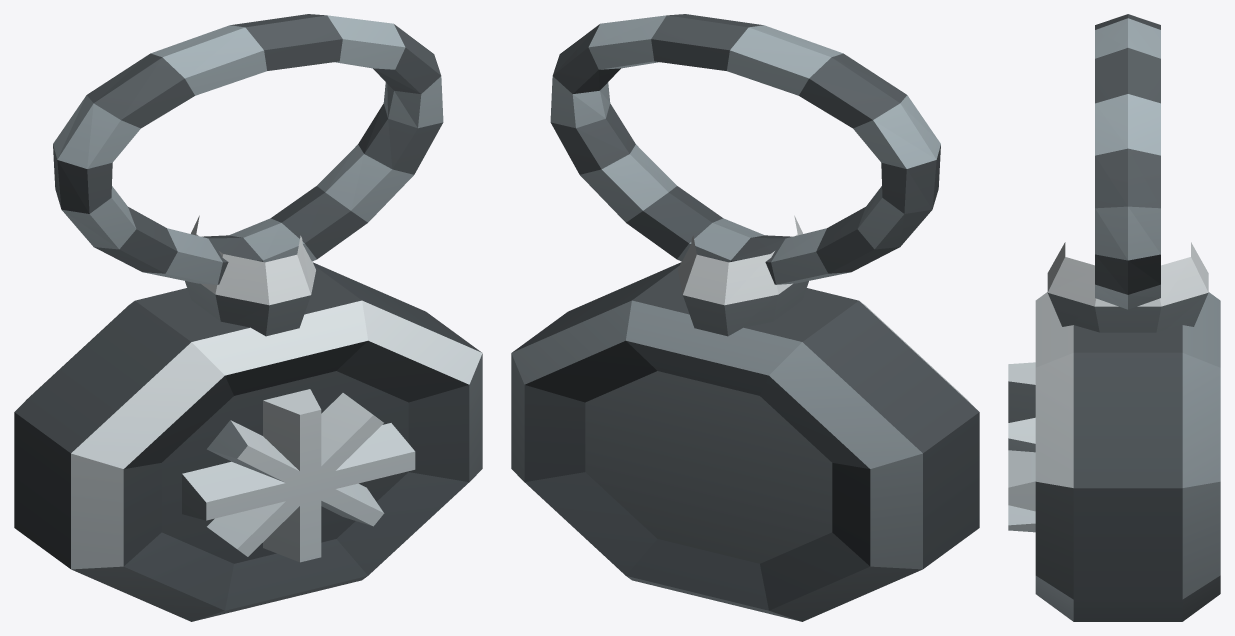
Rendered from amulet_silver_runic_crest.glb.
The picture shows the model from 3 angles, left to right: view 1: azimuth 30°, elevation 25°; view 2: azimuth 150°, elevation 25°; view 3: azimuth 270°, elevation 25°; orthographic projection. The views are drawn at different scales.
Parts seen in each view (by area): view 1: model; view 2: model; view 3: model.
Boxes of the visible parts, box(x1,y1,x2,y2) form: model: box(14, 14, 482, 621); model: box(511, 14, 979, 621); model: box(1008, 14, 1220, 621).
Size of the model in its own units: 0.56 by 0.72 by 0.26.
Materials: 1 (1 with a texture image).
